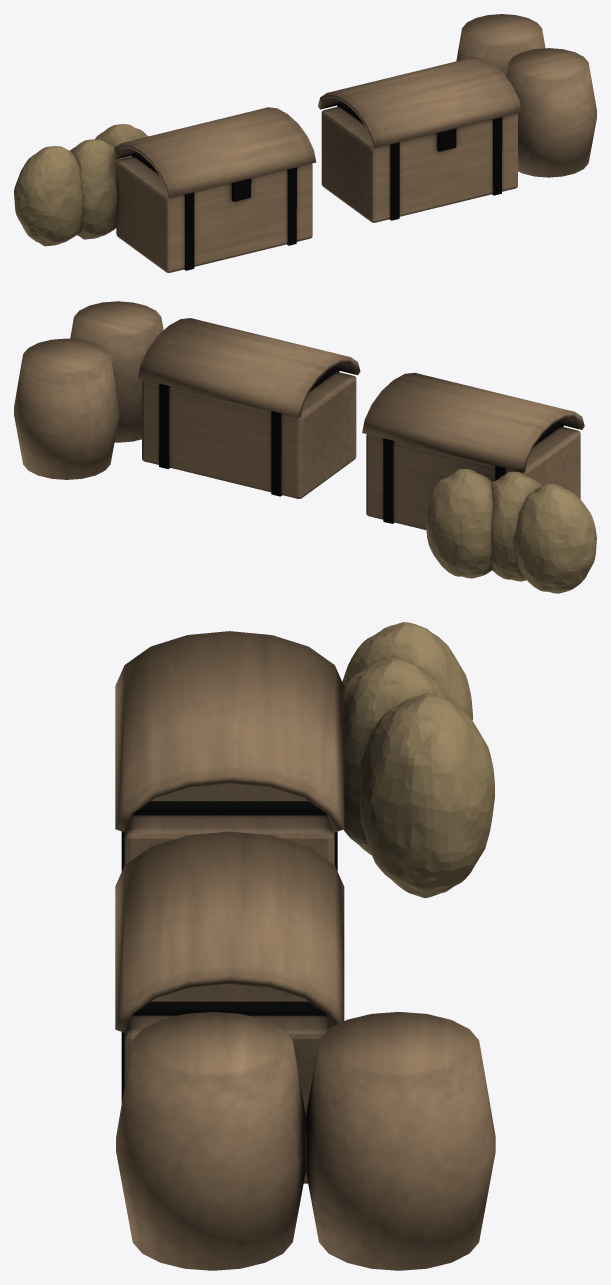
The model's file is cenario_armazem.glb.
3 renders of one model, top to bottom at view 1: azimuth 30°, elevation 25°; view 2: azimuth 150°, elevation 25°; view 3: azimuth 270°, elevation 25°, orthographic. The views are drawn at different scales.
Parts seen in each view (by area): view 1: cenario_armazem_tronco; view 2: cenario_armazem_tronco; view 3: cenario_armazem_tronco.
Boxes of the visible parts, left/top/right/bottom form: cenario_armazem_tronco: left=14, top=14, right=596, bottom=272; cenario_armazem_tronco: left=14, top=301, right=596, bottom=593; cenario_armazem_tronco: left=115, top=622, right=495, bottom=1270.
Size of the model in its own units: 3.58 by 0.7515 by 1.12.
Materials: 1 (1 with a texture image).
